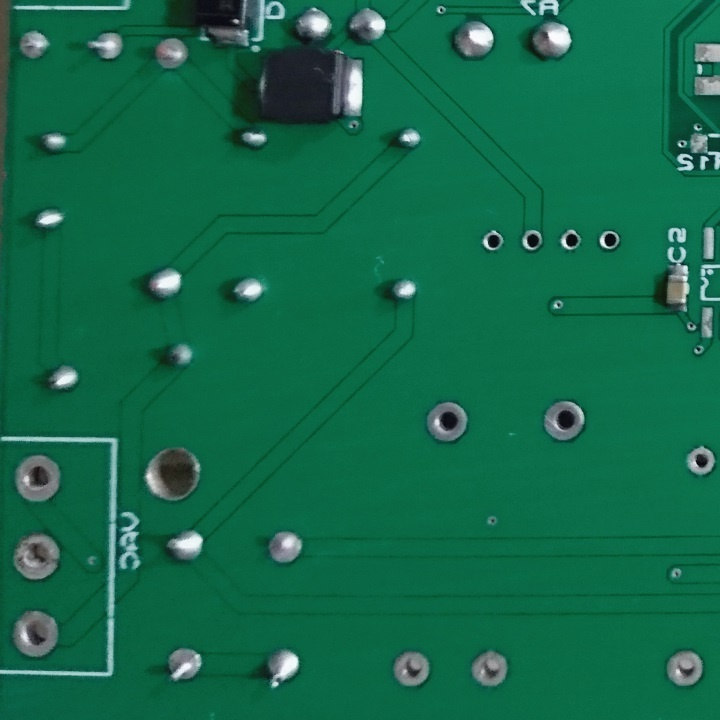F: (9, 526, 64, 587), (13, 452, 66, 509), (8, 607, 61, 661), (540, 398, 589, 447), (661, 646, 709, 691), (466, 644, 510, 693), (424, 402, 470, 446), (389, 649, 433, 695), (150, 33, 194, 75), (164, 648, 204, 689), (267, 528, 305, 569), (85, 28, 128, 64), (681, 441, 719, 480), (17, 26, 50, 62), (596, 224, 623, 257), (556, 226, 584, 255), (481, 226, 505, 255), (521, 226, 544, 254)
